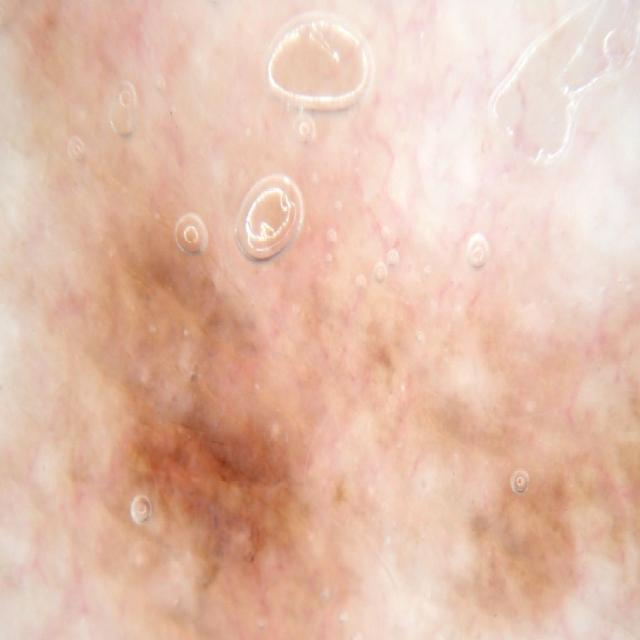Melanoma: (54, 171, 477, 640)
